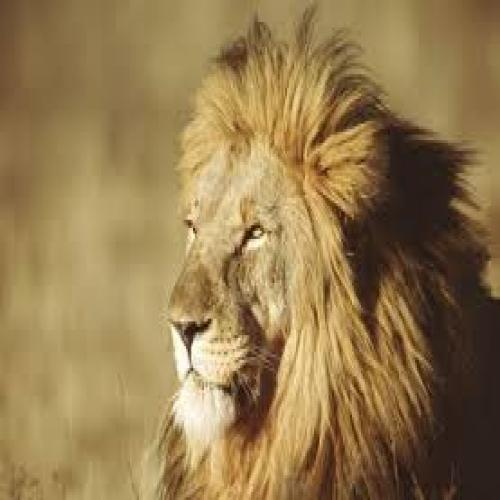lion-endangered: (153, 32, 500, 499)
